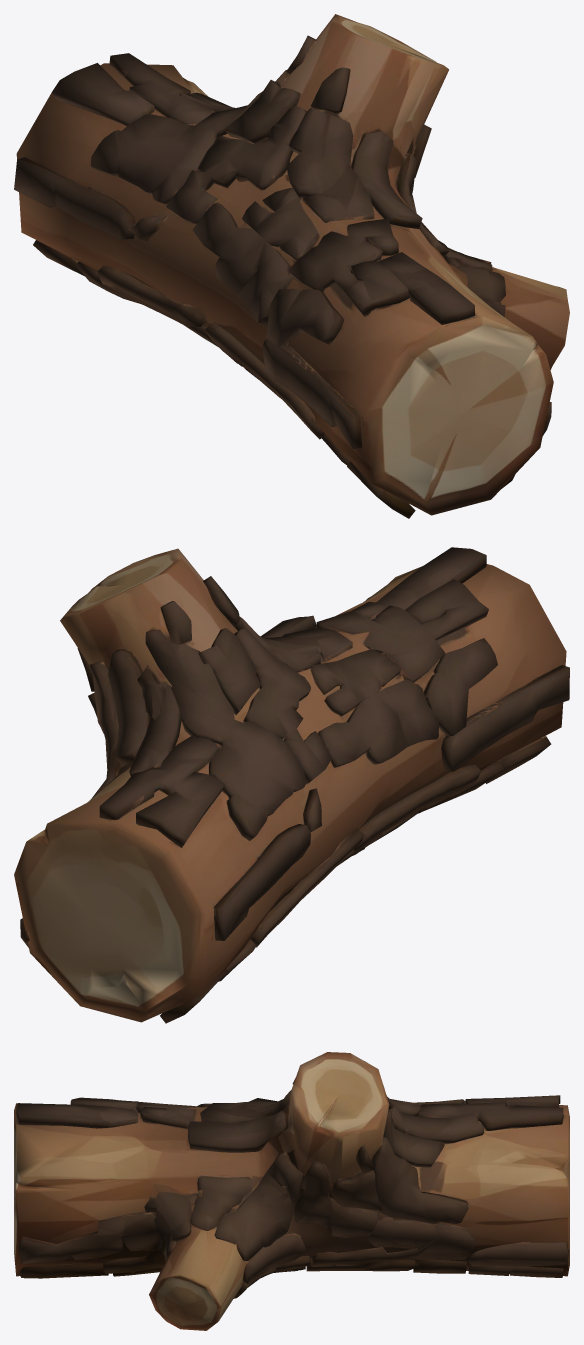
Rendered from selected.fbx.
3 renders of one model, top to bottom at view 1: azimuth 30°, elevation 25°; view 2: azimuth 150°, elevation 25°; view 3: azimuth 270°, elevation 25°, orthographic. The views are drawn at different scales.
Visible parts, largest first — view 1: tripo_node_63c5ce0a-0af2-493f-86fe-b829e00d19ee; view 2: tripo_node_63c5ce0a-0af2-493f-86fe-b829e00d19ee; view 3: tripo_node_63c5ce0a-0af2-493f-86fe-b829e00d19ee.
Part boxes in pixels (x1,y1,x2,y2): tripo_node_63c5ce0a-0af2-493f-86fe-b829e00d19ee: [14, 14, 569, 518]; tripo_node_63c5ce0a-0af2-493f-86fe-b829e00d19ee: [14, 547, 569, 1023]; tripo_node_63c5ce0a-0af2-493f-86fe-b829e00d19ee: [14, 1052, 569, 1330].
Size of the model in its own units: 52.54 by 48.63 by 99.8.
Materials: 1 (1 with a texture image).
